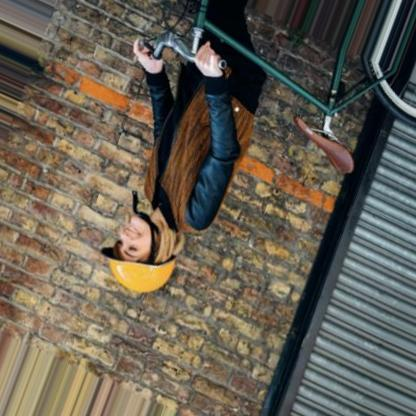with helmet: (98, 211, 179, 296)
